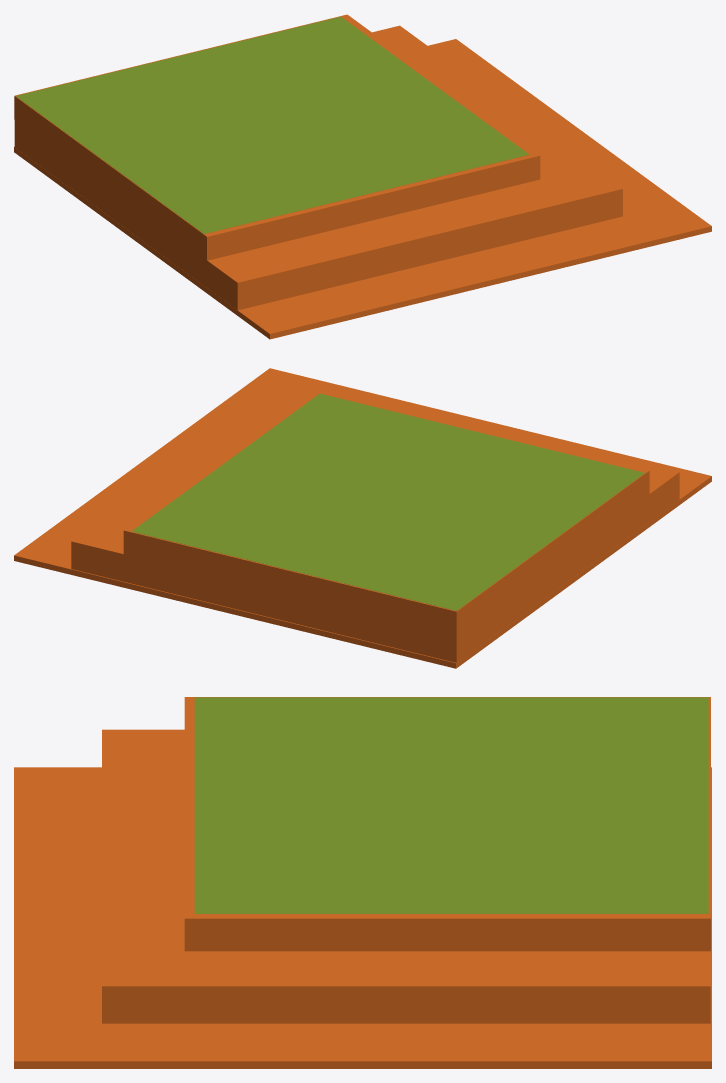
File: ground.glb
3 renders of one model, top to bottom at view 1: azimuth 30°, elevation 25°; view 2: azimuth 150°, elevation 25°; view 3: azimuth 270°, elevation 25°, orthographic. The views are drawn at different scales.
Visible parts, largest first — view 1: grass, layer1, layer2, layer0; view 2: grass, layer1, layer0, layer2; view 3: grass, layer1, layer2, layer0.
Boxes of the visible parts, left/top/right/bottom form: grass: left=16, top=16, right=529, bottom=233; layer1: left=14, top=25, right=622, bottom=310; layer2: left=14, top=39, right=711, bottom=339; layer0: left=14, top=14, right=540, bottom=260; grass: left=131, top=393, right=644, bottom=610; layer1: left=71, top=378, right=679, bottom=662; layer0: left=123, top=389, right=649, bottom=635; layer2: left=14, top=368, right=711, bottom=668; grass: left=194, top=697, right=708, bottom=913; layer1: left=102, top=729, right=710, bottom=1023; layer2: left=14, top=767, right=711, bottom=1068; layer0: left=184, top=697, right=710, bottom=951.
Bounding box in the file's own units: 7.99 × 0.9829 × 8.01.
